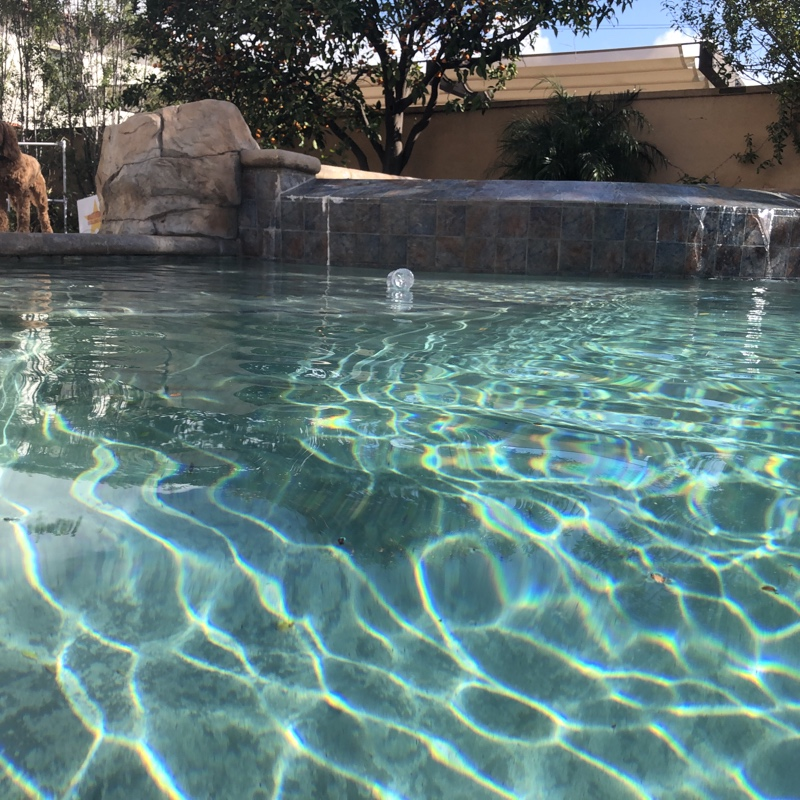Plastic Bottle: (384, 265, 417, 299)
